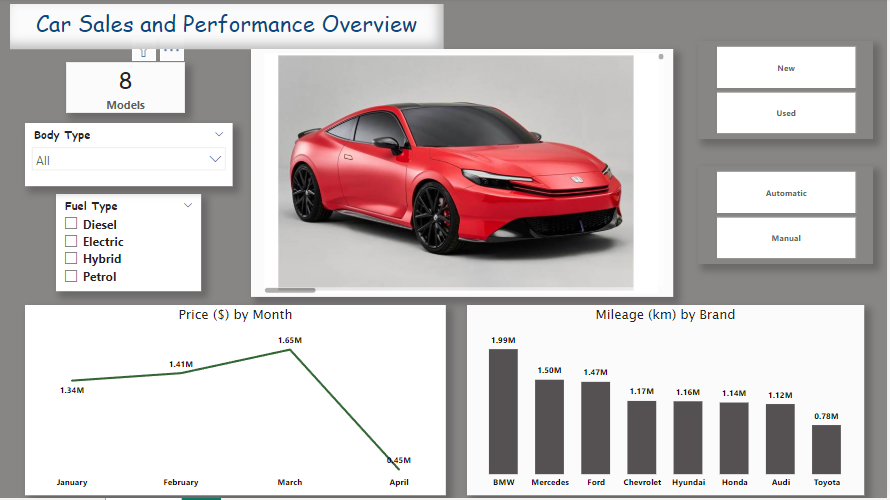

The dashboard page shown, as its layout file describes it:
{"tool":"powerbi","page":{"name":"Page 1","canvas":[1280,720],"ordinal":0},"visuals":[{"type":"pivotTable","fields":{"Columns":["cars_with_images1.Image URL"]},"box":[362.9,73.4,607.7,357.1],"z":0},{"type":"clusteredColumnChart","title":"Mileage (km) by Brand","fields":{"Y":["Sum(cars_with_images1.Mileage (km))"],"Category":["cars_with_images1.Brand"]},"box":[673.9,442.1,571.7,273.6],"z":1},{"type":"slicer","fields":{"Values":["cars_with_images1.Condition"]},"box":[1006.6,61.9,252,141.1],"z":2},{"type":"slicer","fields":{"Values":["cars_with_images1.Fuel Type"]},"box":[82,282.4,209.3,140.5],"z":3},{"type":"card","fields":{"Values":["Count(cars_with_images1.Model)"]},"box":[96.5,92.2,171.4,73.4],"z":4},{"type":"slicer","fields":{"Values":["cars_with_images1.Transmission"]},"box":[1006.6,241.9,252,141.1],"z":6},{"type":"lineChart","title":"Price ($) by Month","fields":{"Category":["cars_with_images1.Sales Date.Variation.Date Hierarchy.Month"],"Y":["Sum(cars_with_images1.Price ($))"]},"box":[37.4,442.1,606.2,273.6],"z":7},{"type":"slicer","fields":{"Values":["cars_with_images1.Body Type"]},"box":[38,180,298.5,90.7],"z":8},{"type":"textbox","box":[15.8,8.6,623.5,64.8],"z":10}]}

Visuals, with their boxes in screenshot pixels (x1, y1, x2, y2), scaled from the page's 1280x720 canvas onto the 890x500 screenshot:
pivotTable - cars_with_images1.Image URL: x1=252 y1=51 x2=675 y2=299
"Mileage (km) by Brand" clusteredColumnChart: x1=469 y1=307 x2=866 y2=497
slicer - cars_with_images1.Condition: x1=700 y1=43 x2=875 y2=141
slicer - cars_with_images1.Fuel Type: x1=57 y1=196 x2=203 y2=294
card - Count(cars_with_images1.Model): x1=67 y1=64 x2=186 y2=115
slicer - cars_with_images1.Transmission: x1=700 y1=168 x2=875 y2=266
"Price ($) by Month" lineChart: x1=26 y1=307 x2=448 y2=497
slicer - cars_with_images1.Body Type: x1=26 y1=125 x2=234 y2=188
textbox: x1=11 y1=6 x2=445 y2=51
